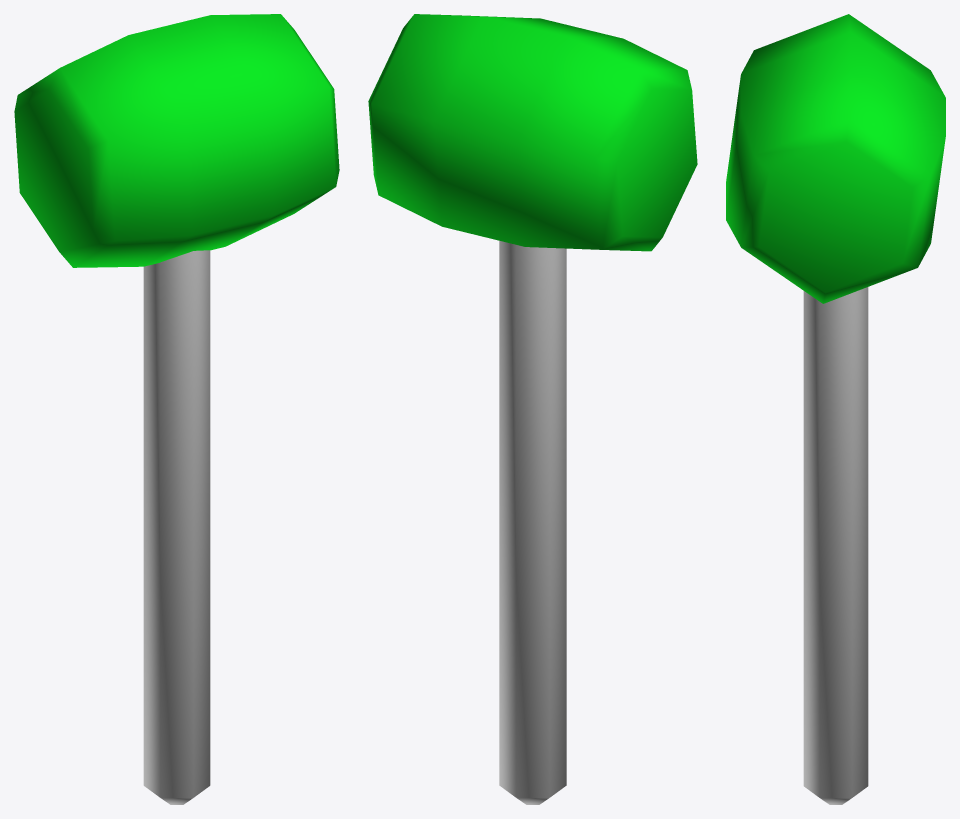
File: mallot.fbx
3 renders of one model, left to right at view 1: azimuth 30°, elevation 25°; view 2: azimuth 150°, elevation 25°; view 3: azimuth 270°, elevation 25°, orthographic. The views are drawn at different scales.
Visible parts, largest first — view 1: Mallot; view 2: Mallot; view 3: Mallot.
Part boxes in pixels (x1,y1,x2,y2): Mallot: (14, 14, 339, 804); Mallot: (368, 14, 697, 804); Mallot: (726, 14, 945, 804).
Bounding box in the file's own units: 23.97 × 71.68 × 19.07.
